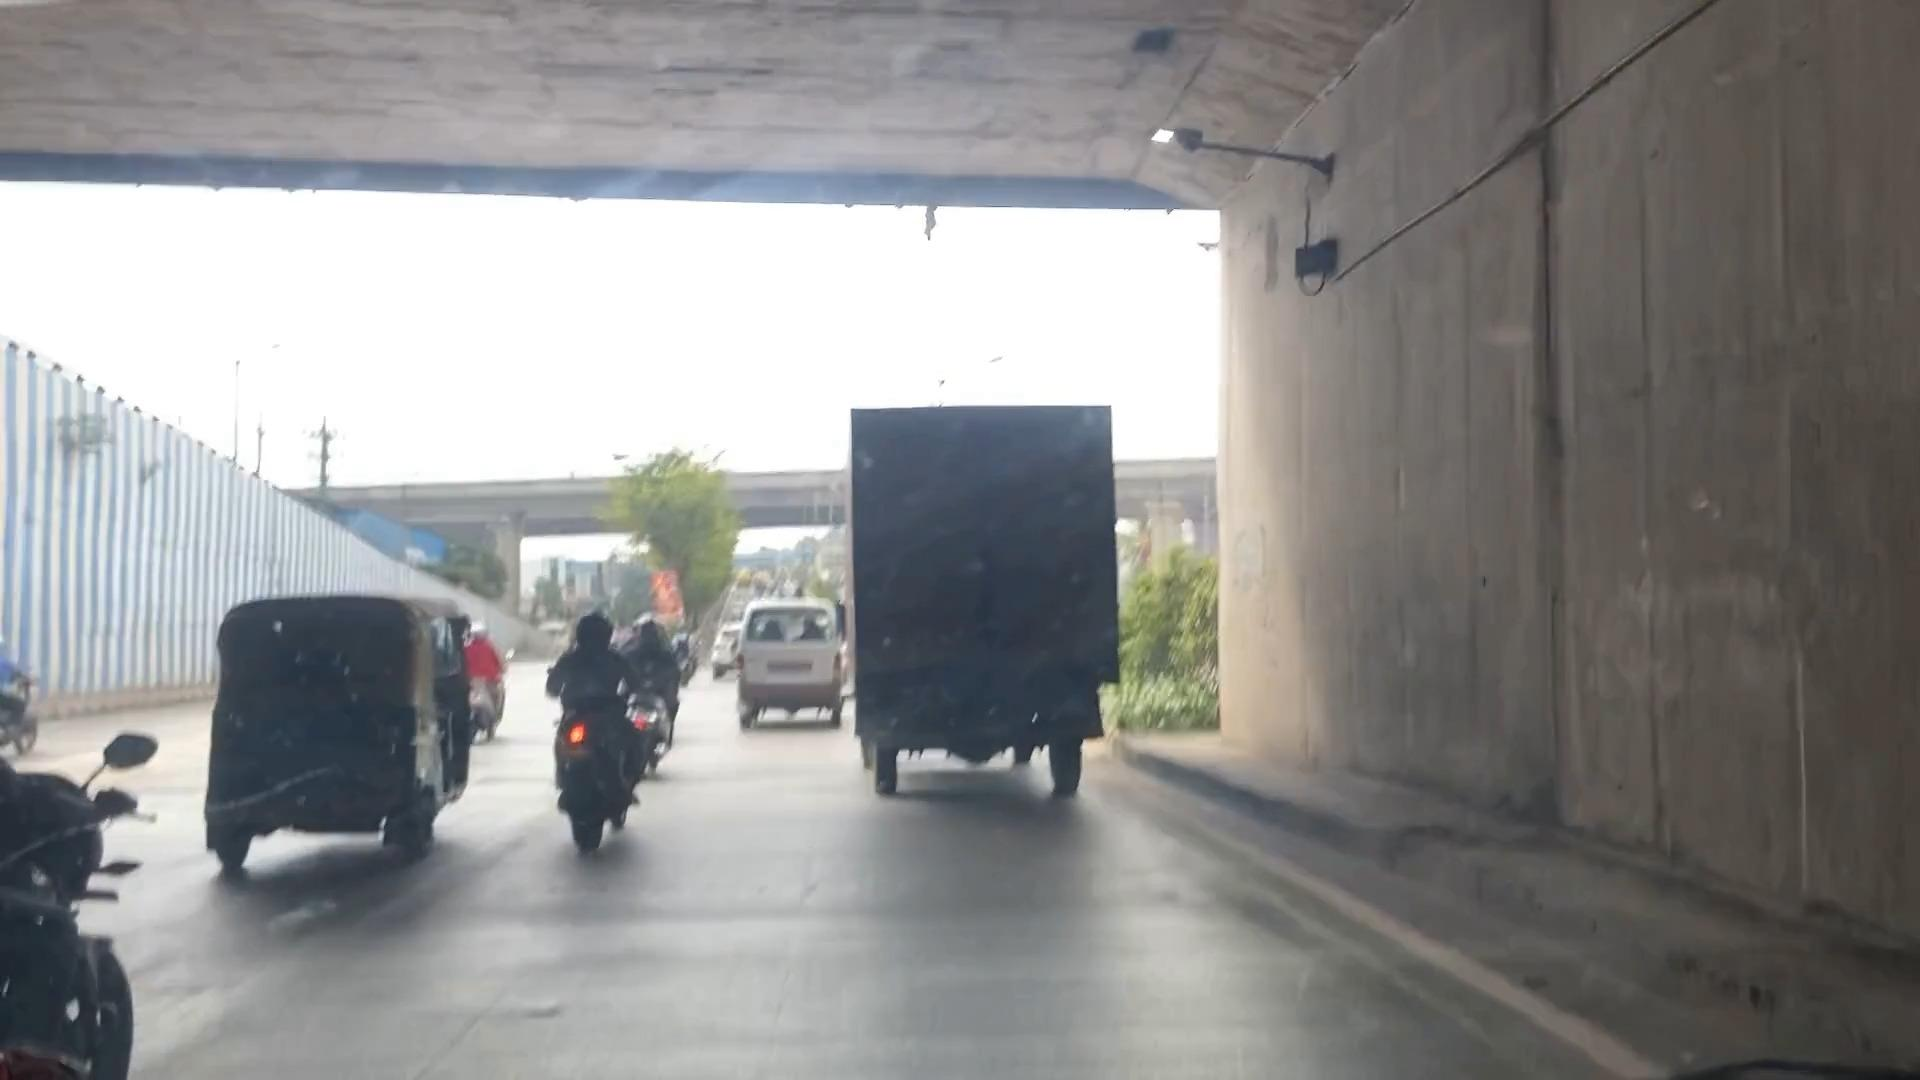HMV: (857, 403, 1111, 789)
LMV: (227, 603, 460, 860), (550, 613, 634, 844), (737, 610, 842, 724)
